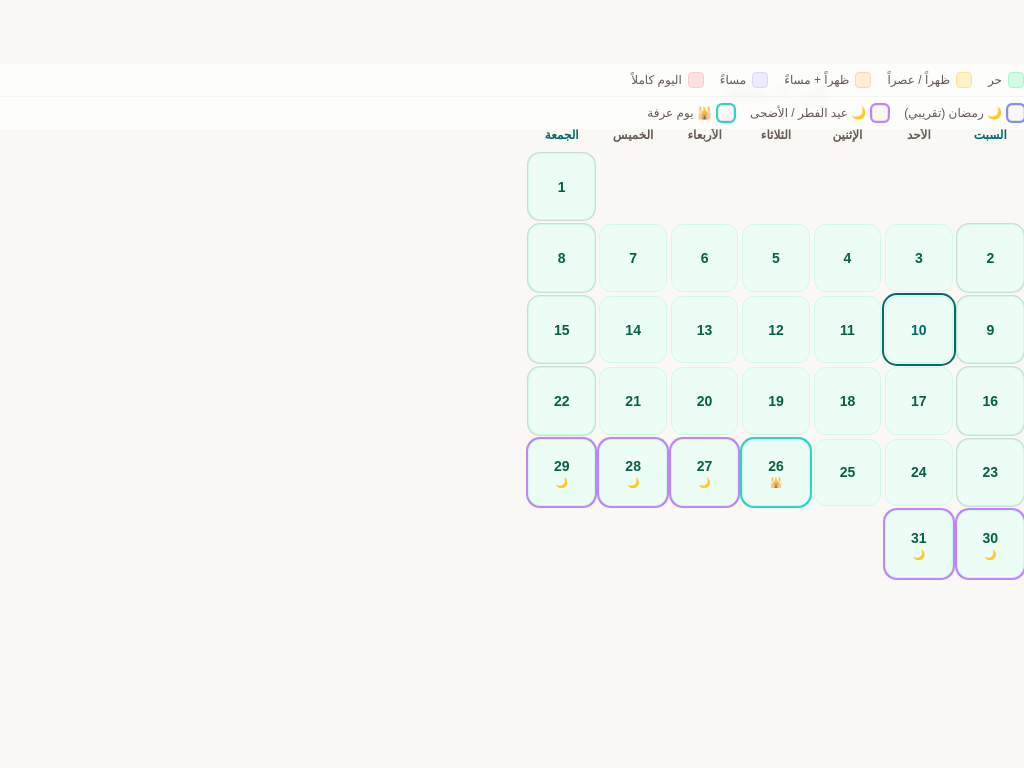
Scenario: CalendarGrid › shows Islamic event details when clicking such a day
The width and height of the screenshot is (1024, 768).
Click the text "26": click(776, 466) [768,456,784,476]
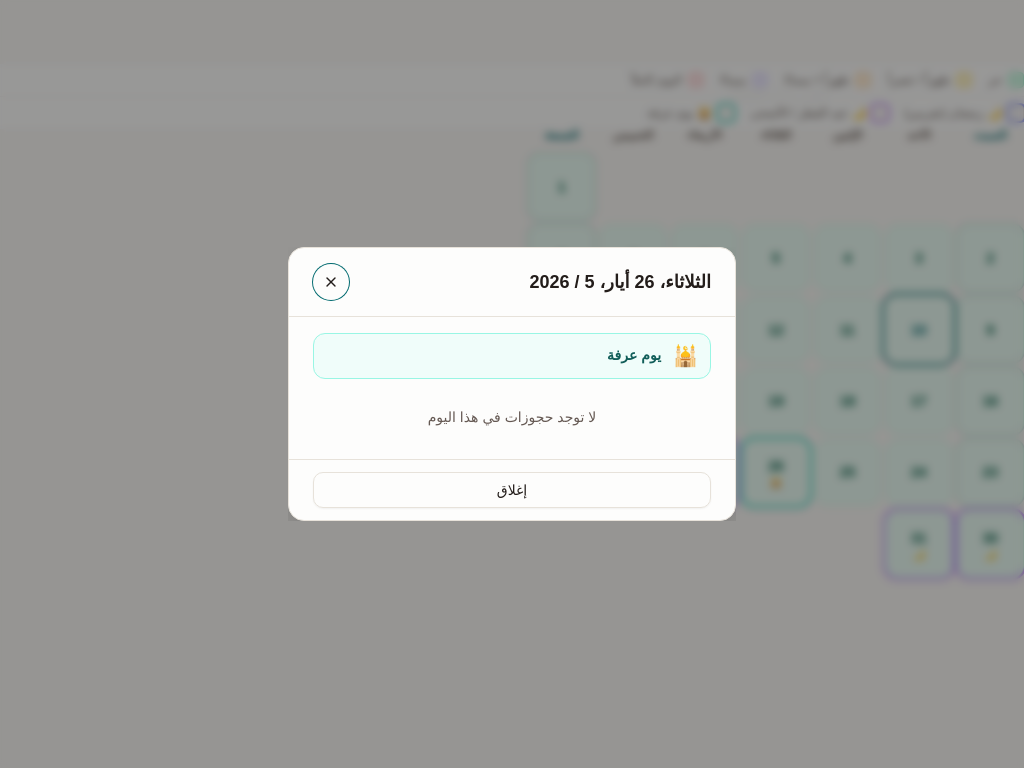
Check: the text "يوم عرفة" is shown, box [607,347,661,365]
Check: the text "لا توجد حجوزات في هذا اليوم" is shown, box [428,409,596,425]
